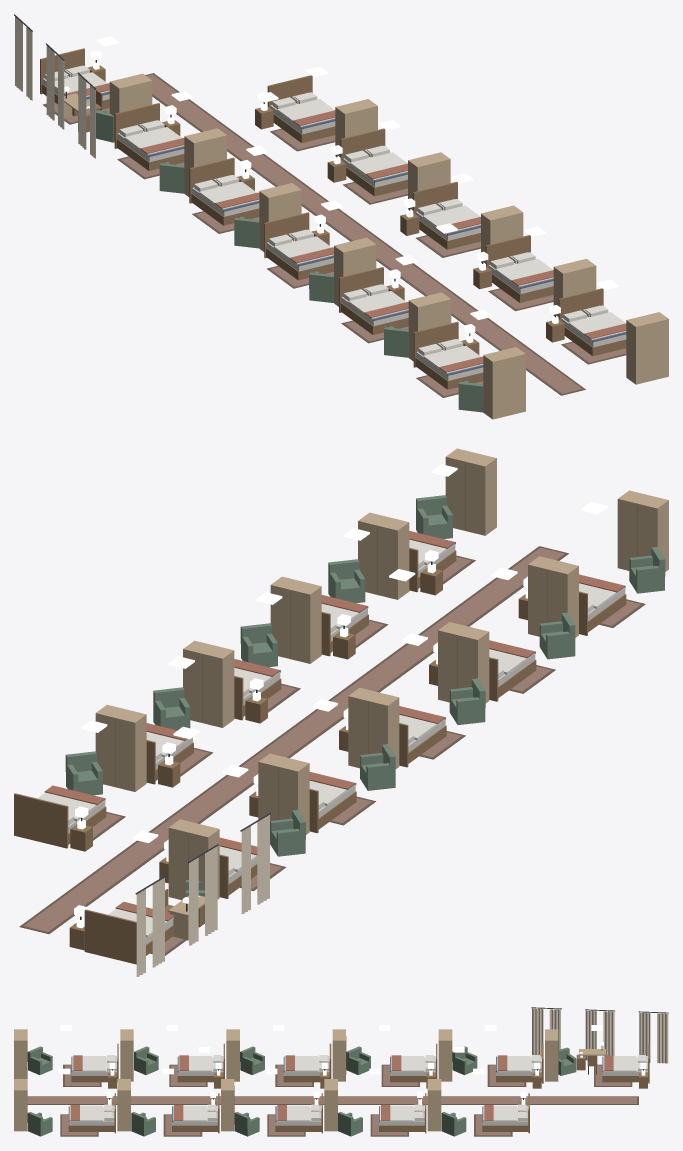
Rendered from fine-s3.glb.
The picture shows the model from 3 angles, top to bottom: view 1: azimuth 30°, elevation 25°; view 2: azimuth 150°, elevation 25°; view 3: azimuth 270°, elevation 25°; orthographic projection. The views are drawn at different scales.
Parts seen in each view (by area): view 1: soft-s3, dresser.032, dresser.026, bed-frame.028, bed-frame.032, bed-frame.029, bed-frame.030, bed-frame.031, bed-frame.026, bed-frame.023, bed-frame.025, bed-frame.024 (+16 smaller); view 2: soft-s3, dresser.023, dresser.024, dresser.026, dresser.022, dresser.025, dresser.032, dresser.030, dresser.029, dresser.031, dresser.028, bed-frame.022 (+21 smaller); view 3: soft-s3, dresser.022, dresser.028, dresser.029, dresser.023, dresser.025, dresser.026, dresser.027, dresser.024, dresser.030, dresser.031, dresser.032 (+23 smaller).
Part boxes in pixels (bbox=[...]): soft-s3: bbox=[14, 14, 626, 397]; dresser.032: bbox=[483, 347, 525, 419]; dresser.026: bbox=[626, 312, 668, 384]; bed-frame.028: bbox=[114, 103, 184, 170]; bed-frame.032: bbox=[413, 321, 483, 389]; bed-frame.029: bbox=[189, 157, 259, 225]; bed-frame.030: bbox=[264, 212, 333, 280]; bed-frame.031: bbox=[339, 267, 408, 334]; bed-frame.026: bbox=[558, 288, 626, 355]; bed-frame.023: bbox=[340, 128, 407, 196]; bed-frame.025: bbox=[485, 235, 553, 302]; bed-frame.024: bbox=[413, 181, 480, 249]; soft-s3: bbox=[19, 531, 645, 976]; dresser.023: bbox=[183, 640, 234, 727]; dresser.024: bbox=[270, 576, 321, 663]; dresser.026: bbox=[445, 448, 496, 535]; dresser.022: bbox=[95, 704, 146, 791]; dresser.025: bbox=[358, 512, 409, 599]; dresser.032: bbox=[617, 490, 668, 571]; dresser.030: bbox=[438, 622, 489, 703]; dresser.029: bbox=[348, 688, 399, 768]; dresser.031: bbox=[528, 556, 578, 637]; dresser.028: bbox=[258, 753, 309, 834]; bed-frame.022: bbox=[14, 793, 106, 848]; soft-s3: bbox=[27, 1007, 668, 1136]; dresser.022: bbox=[427, 1079, 441, 1131]; dresser.028: bbox=[438, 1029, 452, 1081]; dresser.029: bbox=[332, 1029, 346, 1081]; dresser.023: bbox=[324, 1079, 337, 1131]; dresser.025: bbox=[117, 1079, 130, 1131]; dresser.026: bbox=[14, 1079, 27, 1131]; dresser.027: bbox=[545, 1029, 558, 1081]; dresser.024: bbox=[221, 1079, 234, 1131]; dresser.030: bbox=[226, 1029, 239, 1081]; dresser.031: bbox=[120, 1029, 133, 1081]; dresser.032: bbox=[14, 1029, 27, 1078].
Size of the model in its own units: 8.17 by 2.52 by 28.96.
